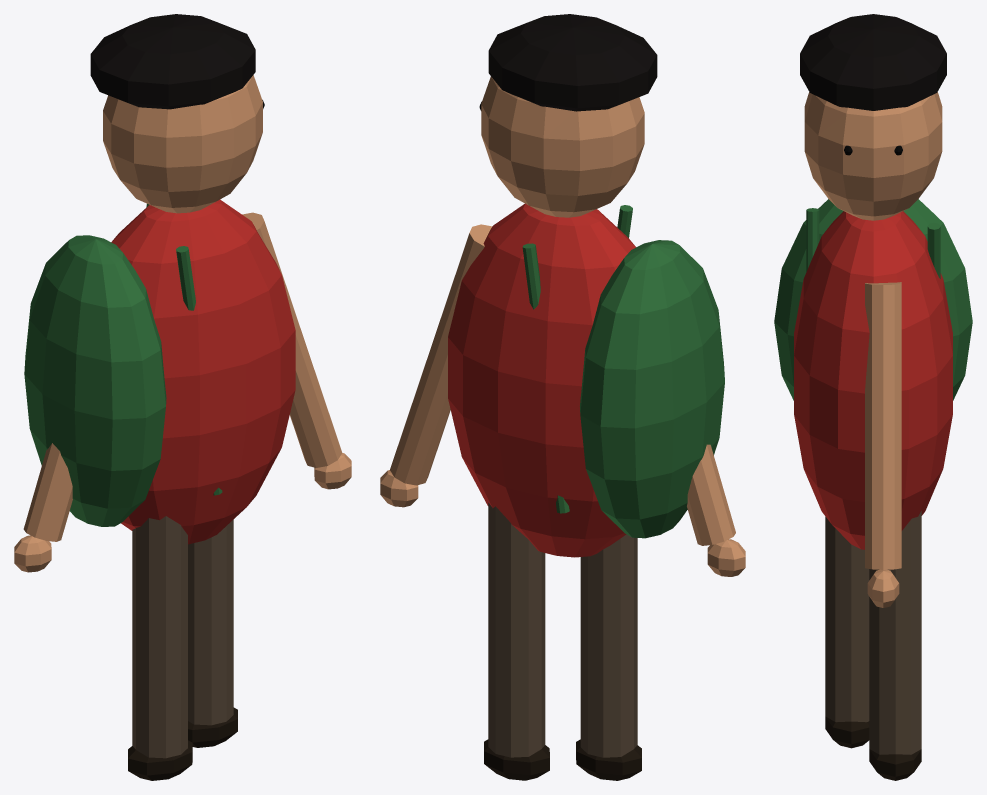
The model's file is backpacker_boy.obj.
3 renders of one model, left to right at view 1: azimuth 30°, elevation 25°; view 2: azimuth 150°, elevation 25°; view 3: azimuth 270°, elevation 25°, orthographic. The views are drawn at different scales.
Visible parts, largest first — view 1: boy_torso, boy_backpack, boy_head, boy_leg_-0.07, boy_hair, boy_leg_0.07, boy_arm_1, boy_arm_-1, boy_boot_-0.07, boy_hand_-1, boy_boot_0.07, boy_hand_1 (+1 smaller); view 2: boy_torso, boy_backpack, boy_head, boy_leg_0.07, boy_hair, boy_leg_-0.07, boy_arm_1, boy_arm_-1, boy_boot_-0.07, boy_boot_0.07, boy_hand_-1, boy_right_pack_strap (+1 smaller); view 3: boy_torso, boy_head, boy_hair, boy_arm_1, boy_leg_0.07, boy_leg_-0.07, boy_backpack, boy_boot_0.07, boy_boot_-0.07, boy_hand_1, boy_left_pack_strap, boy_right_pack_strap.
Boxes of the visible parts, box(x1,y1,x2,y2) form: boy_torso: box(111, 199, 295, 544); boy_backpack: box(24, 235, 166, 526); boy_head: box(103, 75, 262, 213); boy_leg_-0.07: box(132, 516, 187, 758); boy_hair: box(90, 14, 255, 109); boy_leg_0.07: box(188, 519, 233, 725); boy_arm_1: box(242, 212, 342, 467); boy_arm_-1: box(23, 443, 72, 541); boy_boot_-0.07: box(128, 740, 192, 780); boy_hand_-1: box(14, 535, 51, 572); boy_boot_0.07: box(188, 707, 237, 747); boy_hand_1: box(314, 453, 351, 489); boy_torso: box(448, 203, 635, 557); boy_backpack: box(580, 240, 724, 538); boy_head: box(481, 76, 644, 217); boy_leg_0.07: box(488, 502, 545, 757); boy_hair: box(488, 14, 657, 111); boy_leg_-0.07: box(580, 534, 637, 757); boy_arm_1: box(390, 224, 492, 485); boy_arm_-1: box(687, 444, 735, 545); boy_boot_-0.07: box(576, 739, 641, 780); boy_boot_0.07: box(484, 739, 549, 780); boy_hand_-1: box(707, 539, 745, 576); boy_right_pack_strap: box(522, 243, 569, 513); boy_torso: box(794, 211, 952, 549); boy_head: box(804, 92, 942, 220); boy_hair: box(800, 14, 946, 110); boy_arm_1: box(865, 282, 901, 569); boy_leg_0.07: box(869, 511, 921, 754); boy_leg_-0.07: box(825, 516, 869, 722); boy_backpack: box(774, 199, 972, 400); boy_boot_0.07: box(869, 749, 921, 780); boy_boot_-0.07: box(825, 716, 869, 748); boy_hand_1: box(867, 569, 899, 607); boy_left_pack_strap: box(806, 208, 819, 271); boy_right_pack_strap: box(927, 222, 940, 278).
Size of the model in its own units: 0.5156 by 1.04 by 0.2592.
